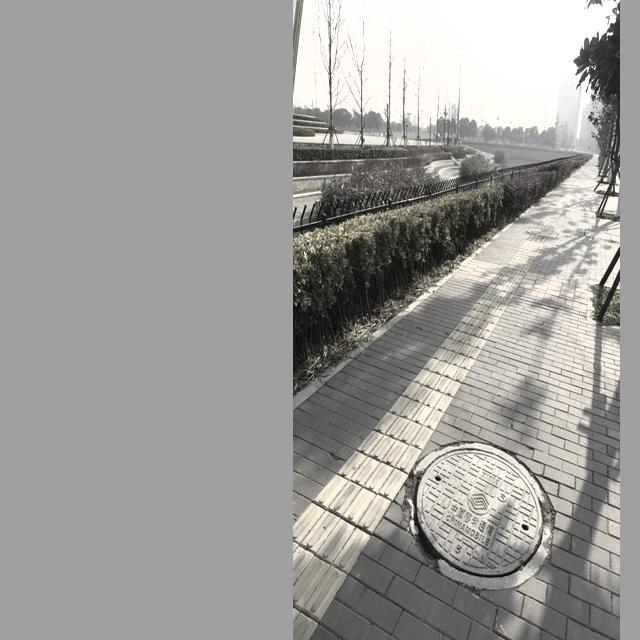circle: (402, 441, 556, 589)
